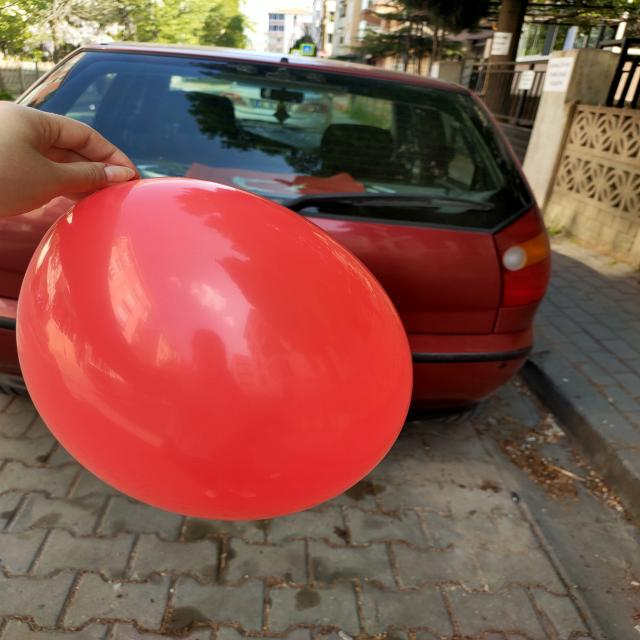red: (17, 176, 417, 521)
